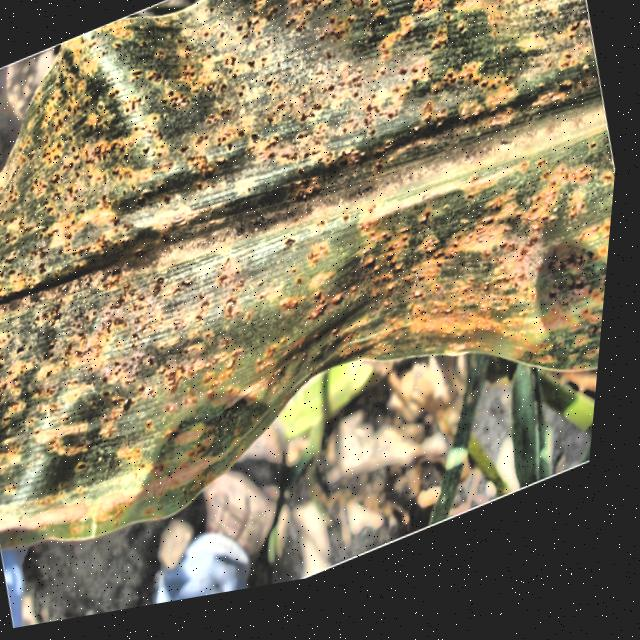common_rust: (0, 0, 613, 552)
